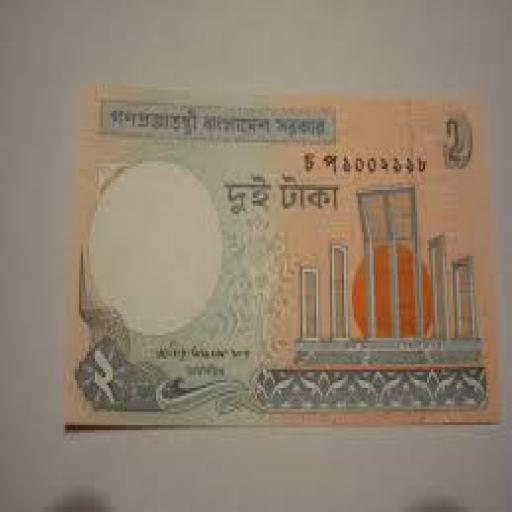2taka: (65, 84, 498, 425)
